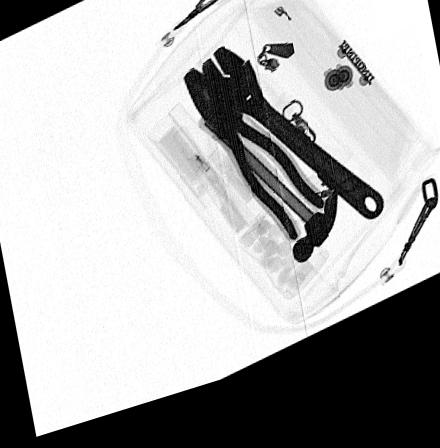Hammer: (195, 118, 338, 281)
Pliers: (181, 77, 326, 260)
Wrench: (202, 59, 385, 243)
